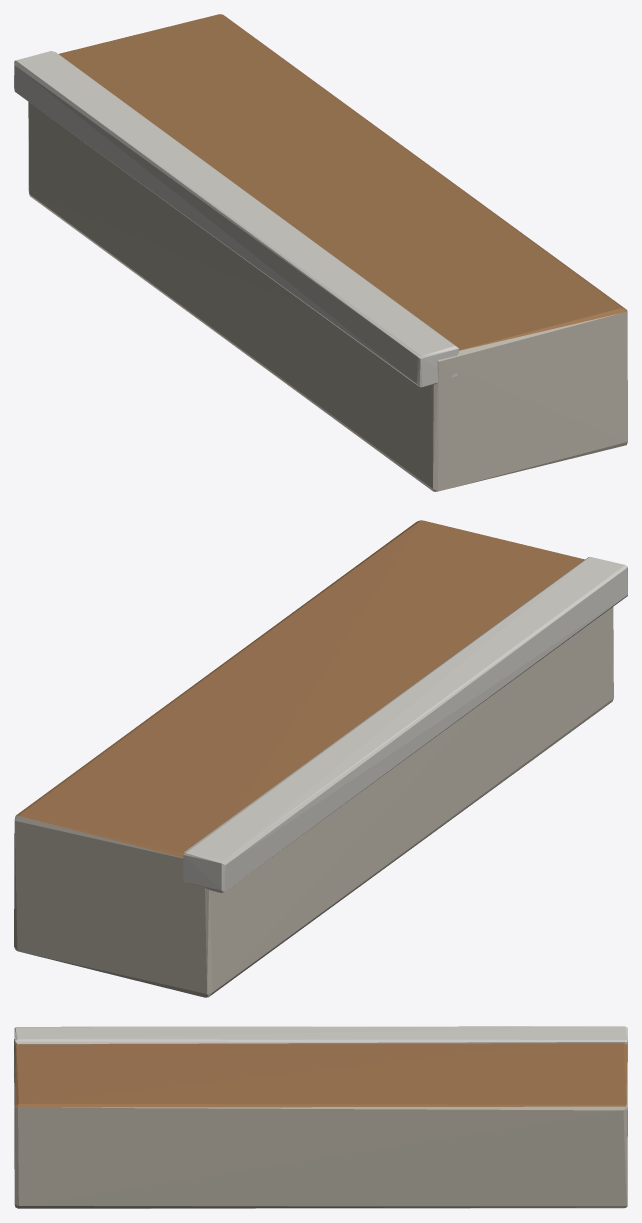
The model's file is SM_Kit_Steps_Outdoor_1_LOD1.glb.
3 views of the same model, one above another, from view 1: azimuth 30°, elevation 25°; view 2: azimuth 150°, elevation 25°; view 3: azimuth 270°, elevation 25° (orthographic). The views are drawn at different scales.
Visible parts, largest first — view 1: SM_Kit_Steps_Outdoor_1_LOD1; view 2: SM_Kit_Steps_Outdoor_1_LOD1; view 3: SM_Kit_Steps_Outdoor_1_LOD1.
Part boxes in pixels (<box>): SM_Kit_Steps_Outdoor_1_LOD1: <box>14,14,627,491</box>; SM_Kit_Steps_Outdoor_1_LOD1: <box>14,520,627,997</box>; SM_Kit_Steps_Outdoor_1_LOD1: <box>14,1026,627,1208</box>.
Bounding box in the file's own units: 0.3 × 0.1925 × 0.9992.
